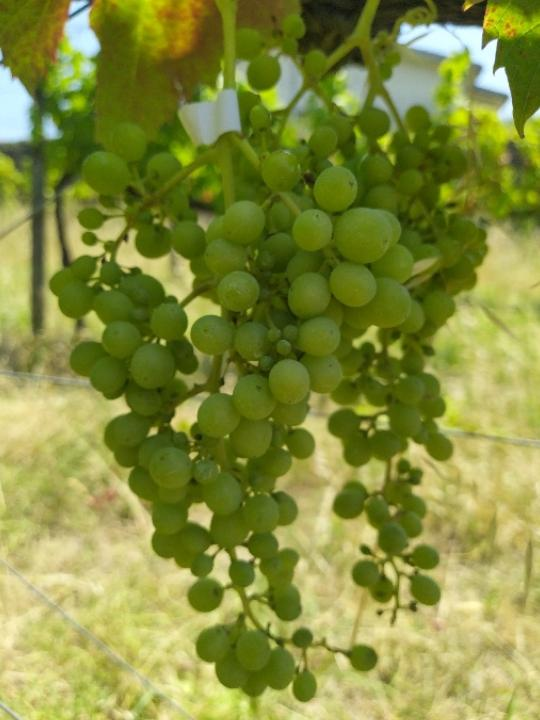grape: (50, 94, 413, 704)
